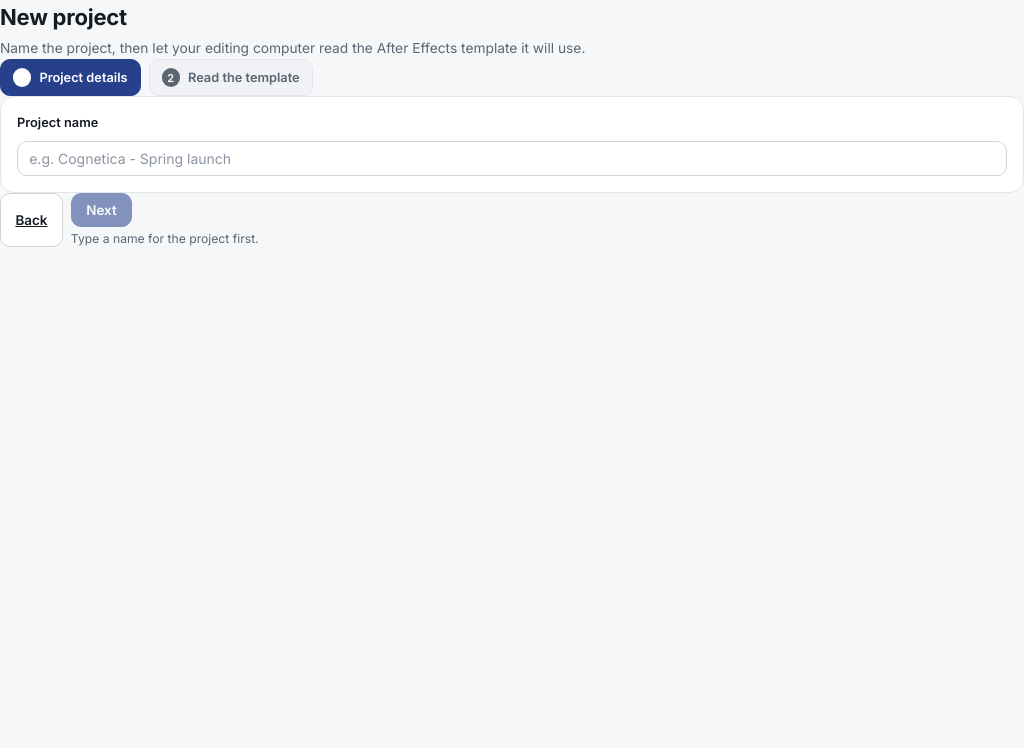
NewProjectWizard › shows what the worker actually reported for a failed inspection, not only the generic manifest message
Type "Real Project" into the field labelled "Project name".
click(512, 158); type("Real Project")  # box [17,141,1007,176]
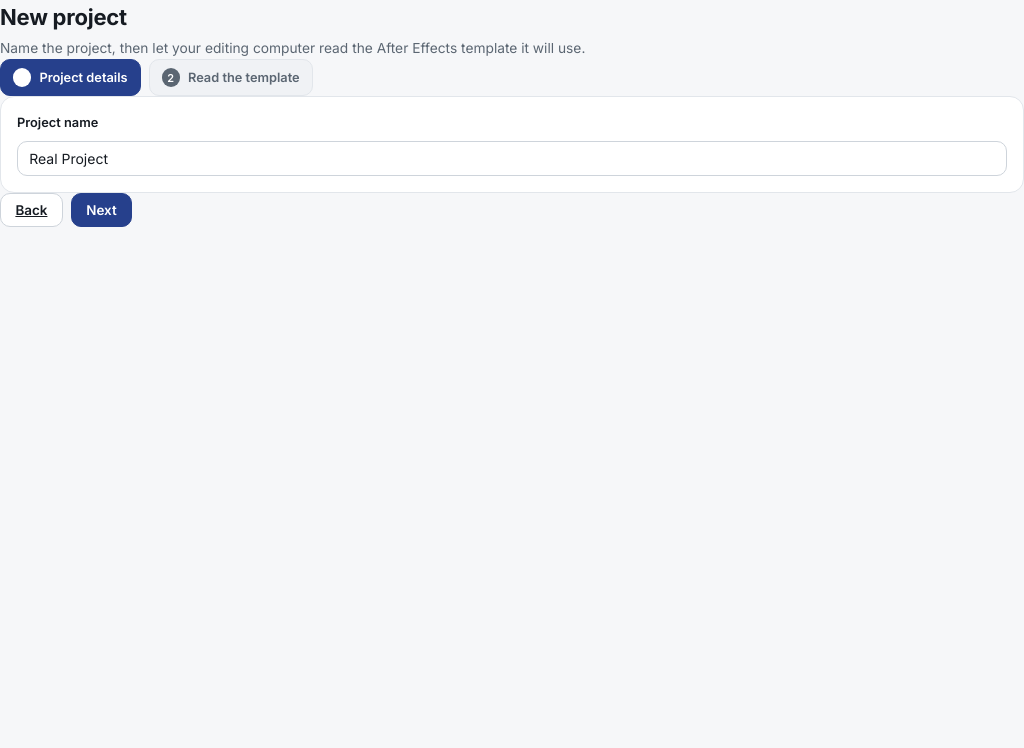
Click the button "Next".
click(101, 210)  # box [71,193,132,227]
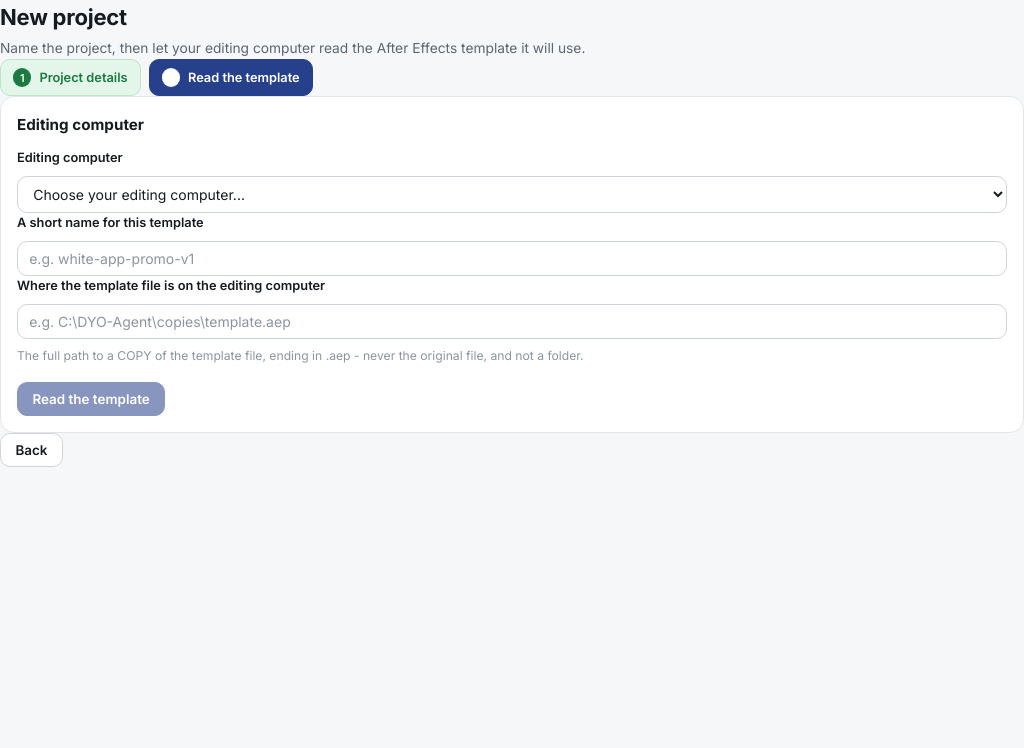
Check: the dropdown is shown
Select "worker-a" in the dropdown at (512, 195), box [17,176,1007,213]
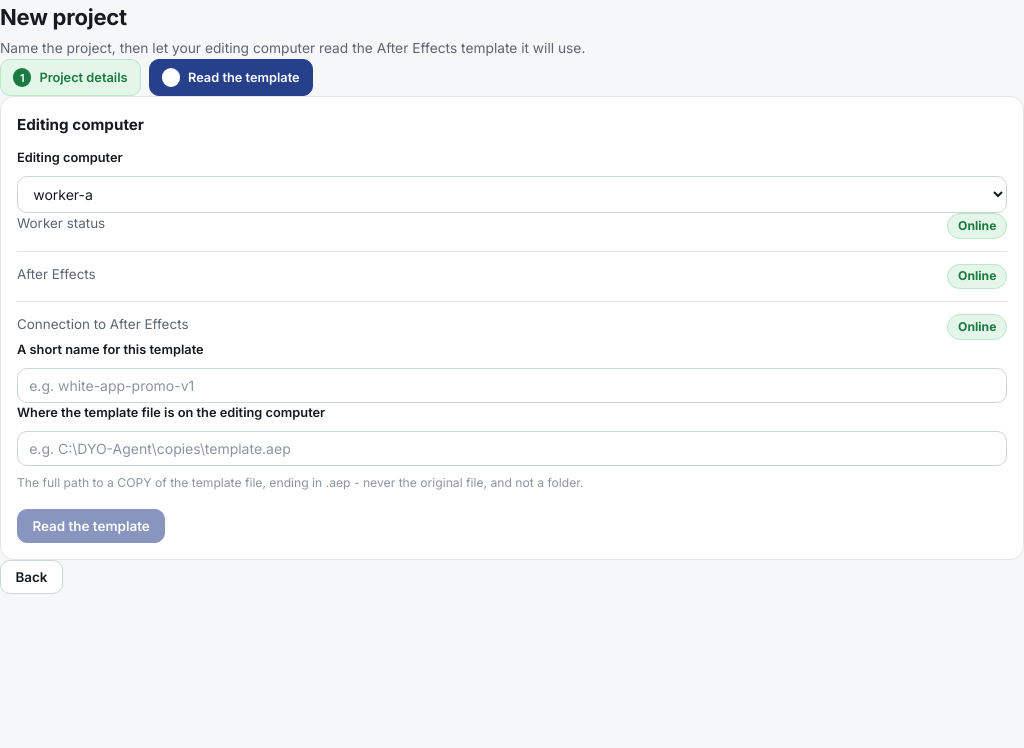
Type "tmpl-1" into the field labelled "A short name for this template".
click(512, 385); type("tmpl-1")  # box [17,368,1007,403]
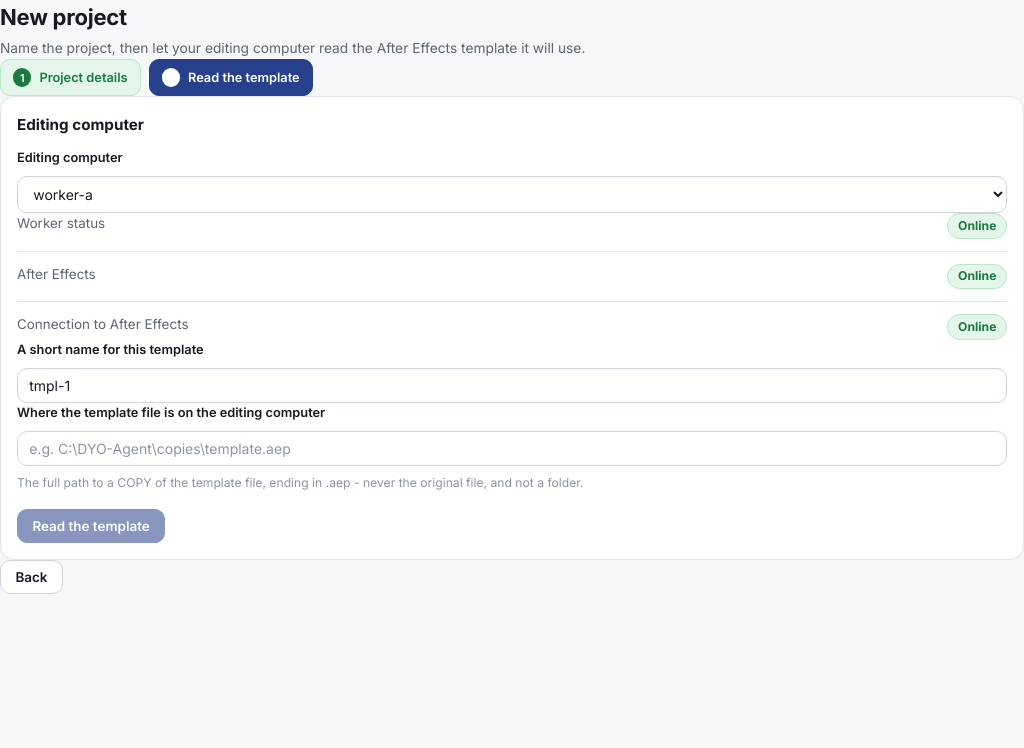
Type "/copies/t1.aep" into the field labelled "Where the template file is on the editing computer".
click(512, 448); type("/copies/t1.aep")  # box [17,431,1007,466]
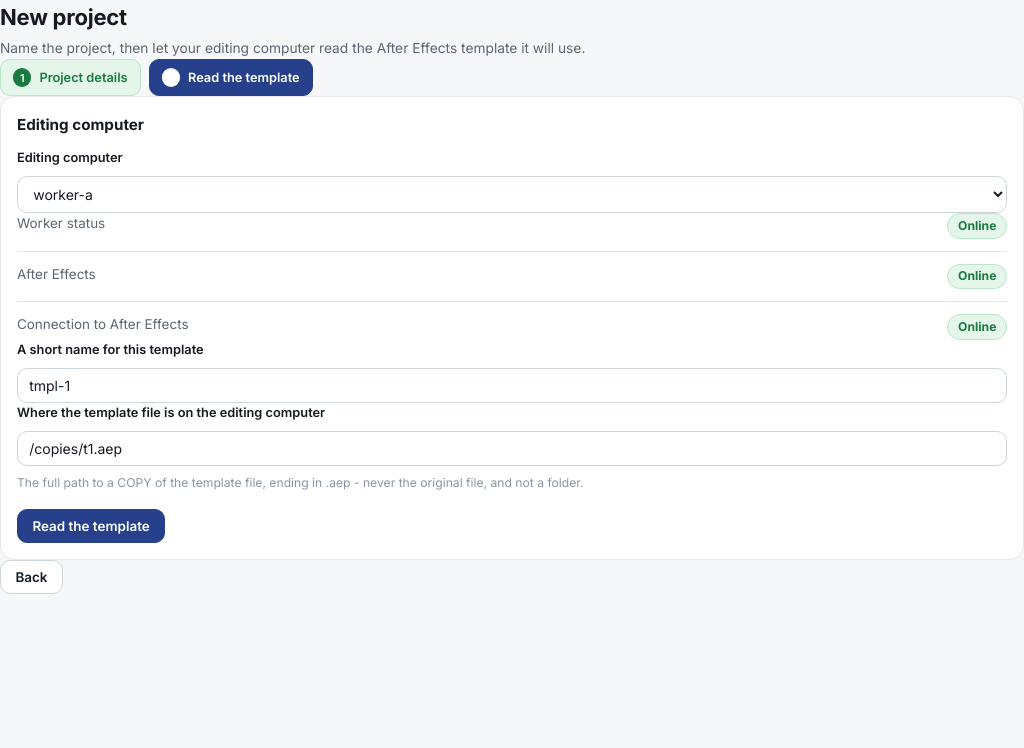
Click the button "Read the template".
click(91, 526)  # box [17,508,165,543]
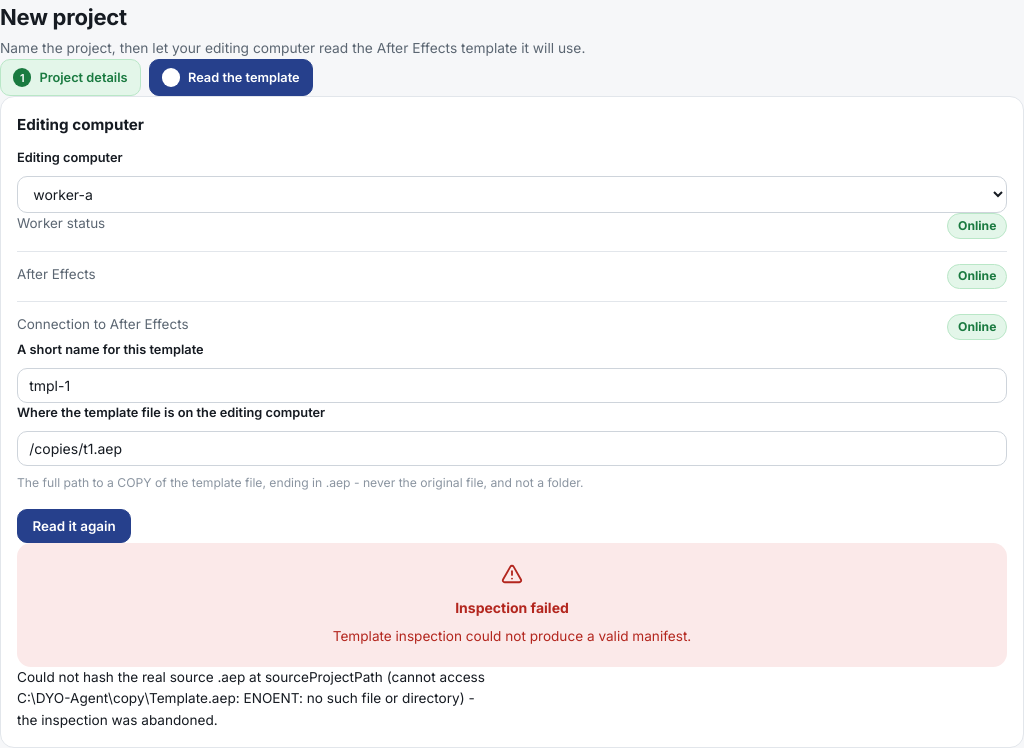
Check: the button "Read it again" is enabled, box [17,508,131,543]
Check: the text "Could not hash the real source .aep at sourceProjectPath (cannot access C:\\DYO-Agent\\copy\\Template.aep: ENOENT: no such " is shown, box [17,669,485,728]
Check: the text "Template inspection could not produce a valid manifest." is shown, box [333,626,691,647]
